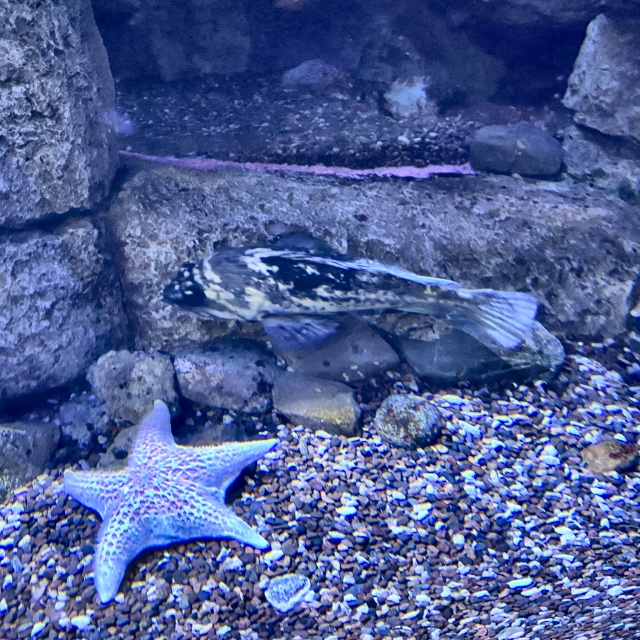fish: (142, 249, 540, 345)
starfish: (55, 398, 297, 594)
